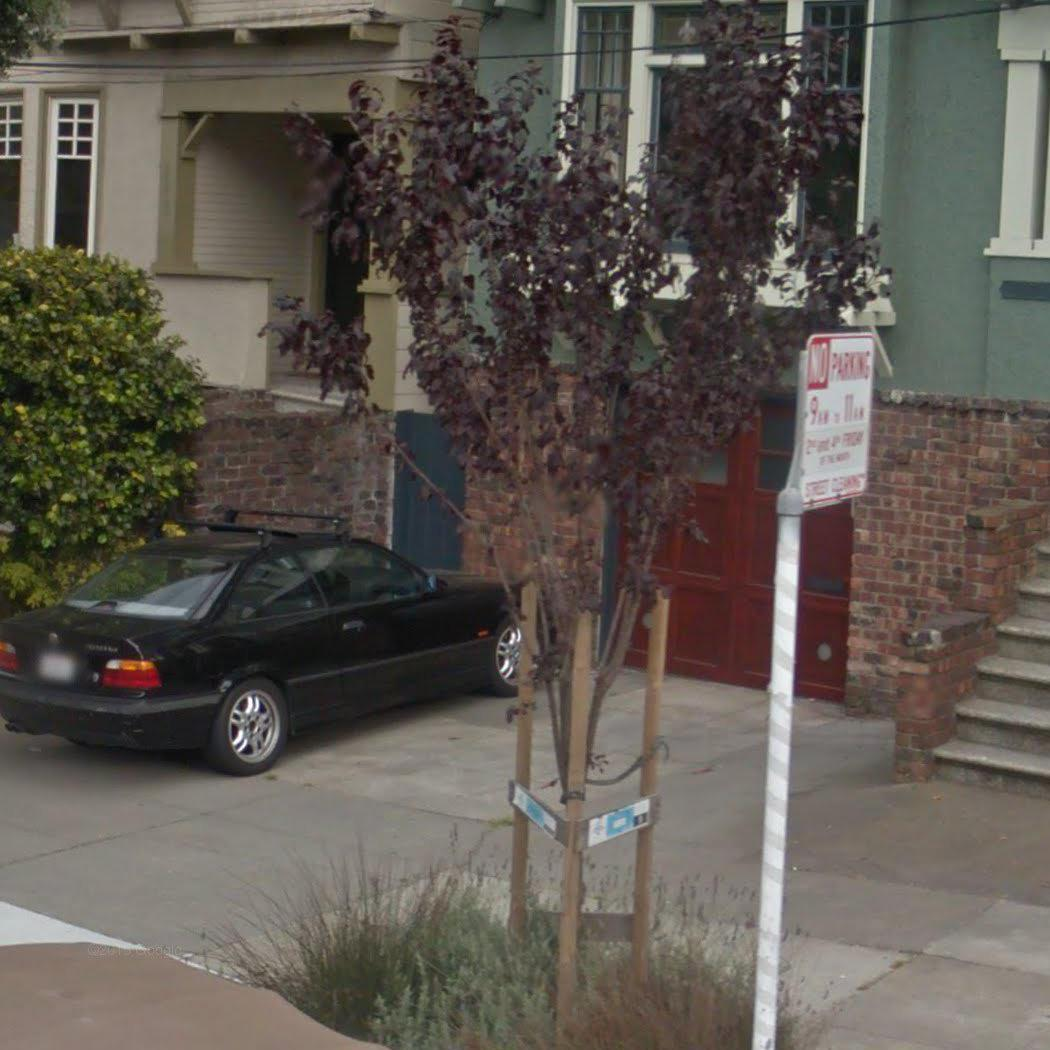No Parking: (796, 333, 877, 504)
